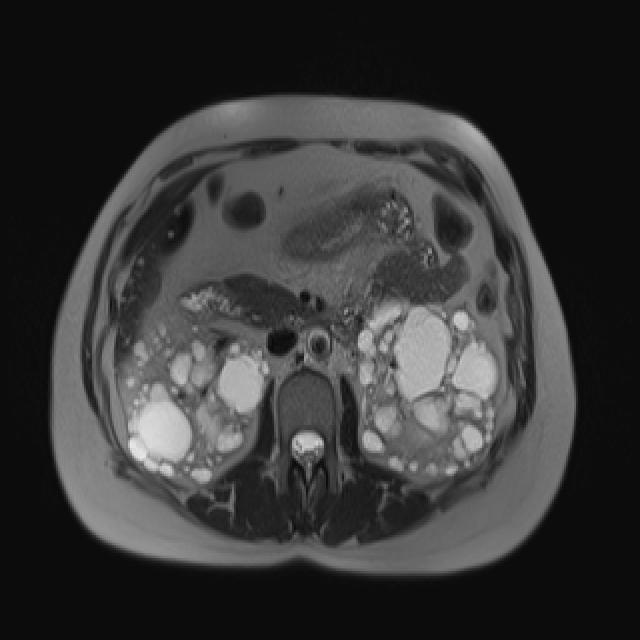sag: (119, 307, 273, 488)
sol: (357, 293, 501, 481)
